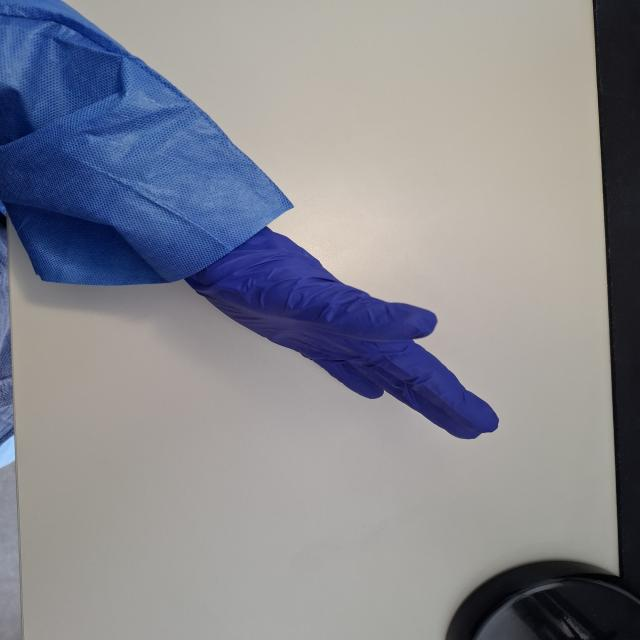glove_on: (173, 219, 504, 442)
